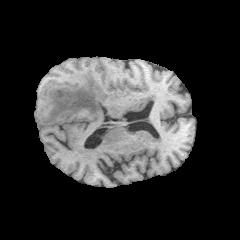glioma: (39, 70, 119, 124)
